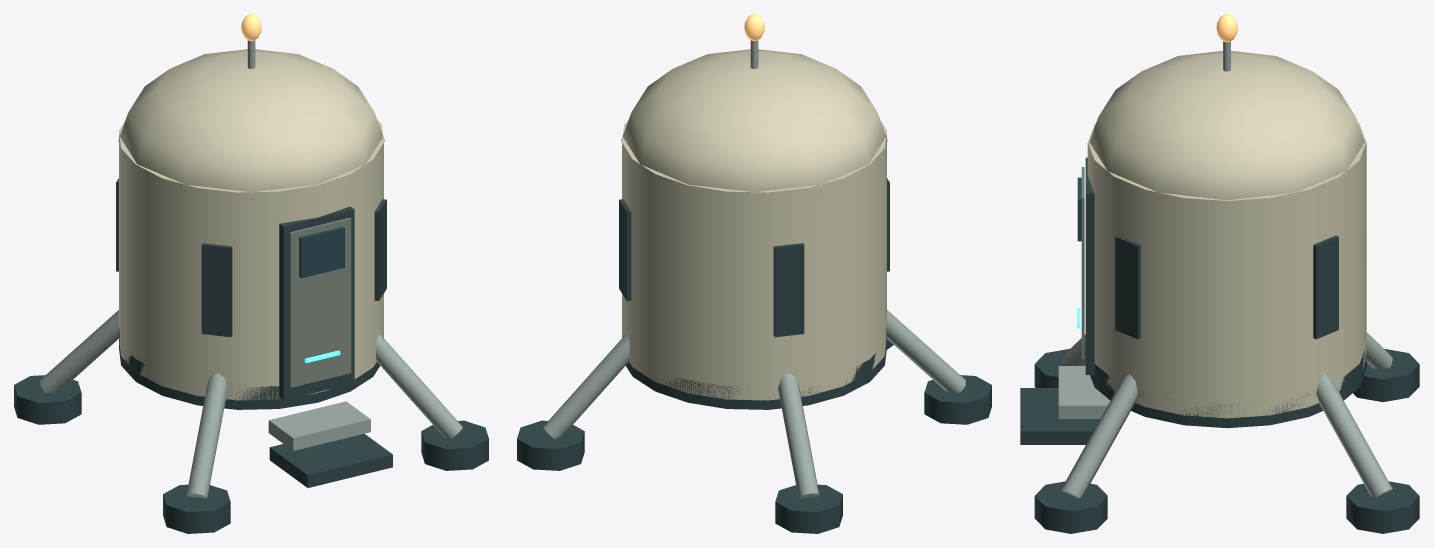
The model's file is landing-pod.glb.
3 views of the same model, side by side, from view 1: azimuth 30°, elevation 25°; view 2: azimuth 150°, elevation 25°; view 3: azimuth 270°, elevation 25° (orthographic). The views are drawn at different scales.
Parts seen in each view (by area): view 1: Vesper / landing-pod; view 2: Vesper / landing-pod; view 3: Vesper / landing-pod, beacon.
Part boxes in pixels (x1,y1,x2,y2): Vesper / landing-pod: (14,40,488,533); Vesper / landing-pod: (517,40,991,533); Vesper / landing-pod: (1020,41,1419,533); beacon: (1216,14,1237,42).
Size of the model in its own units: 3.37 by 4.23 by 3.49.
